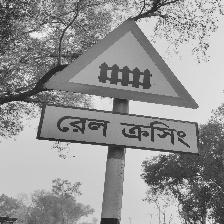Rail-crossing: (36, 17, 201, 155)
